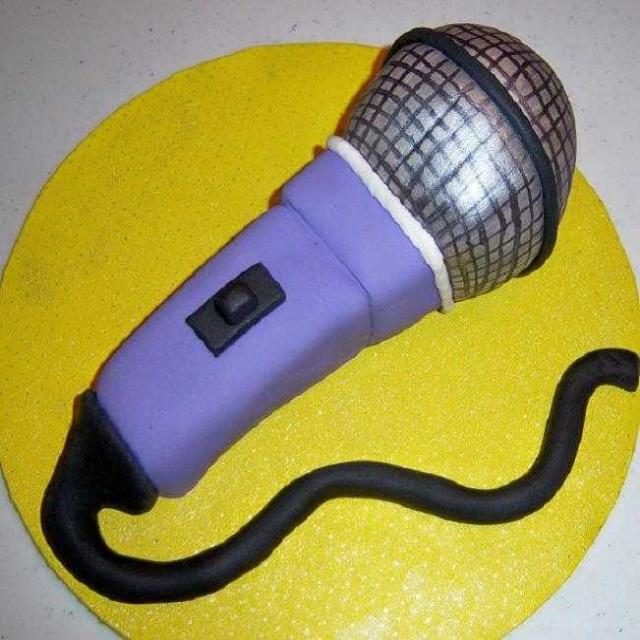microphone: (80, 23, 572, 511)
